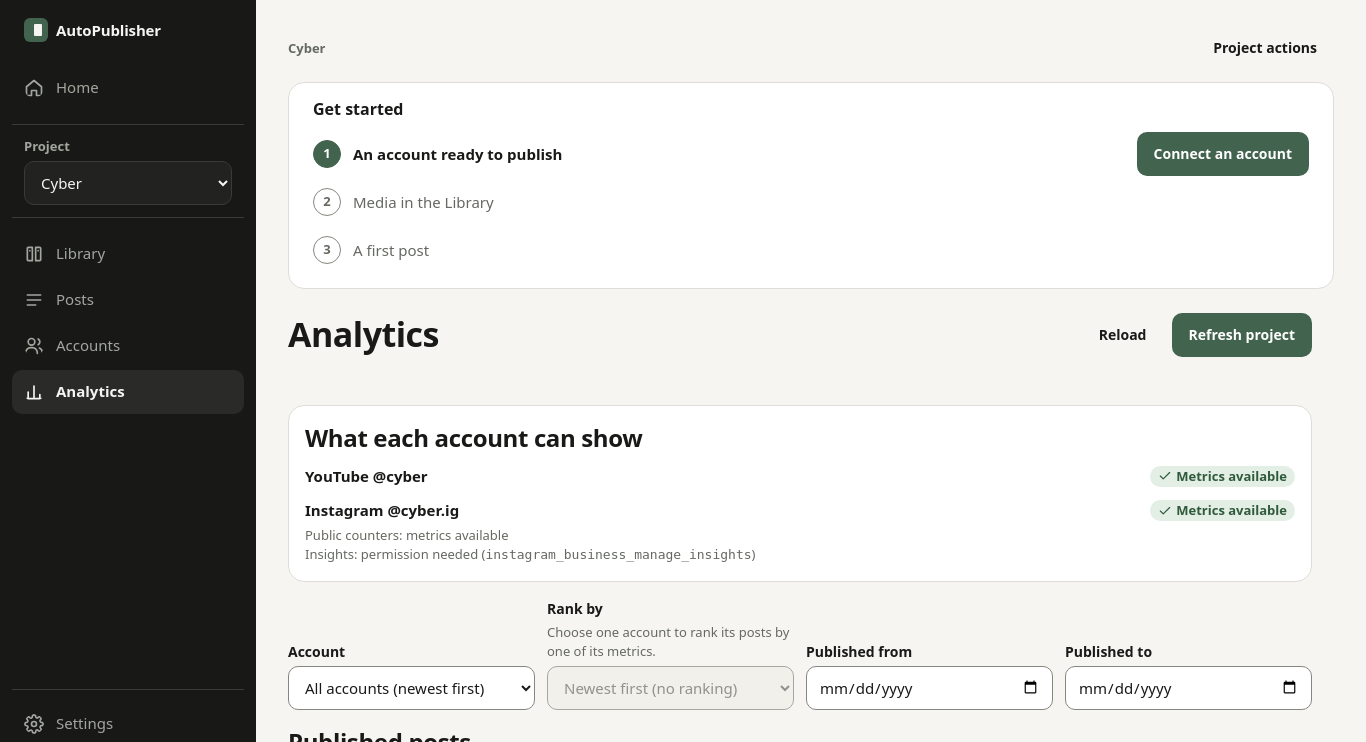
Test: Analytics rankings and content types › shows medians by content type and insufficient samples
expect the heading "Analytics" is shown: met, box [288,315,439,354]
Select "YouTube @cyber" in the dropdown labelled "Account" at (412,688), box [288,666,535,710]
(page scrolled)
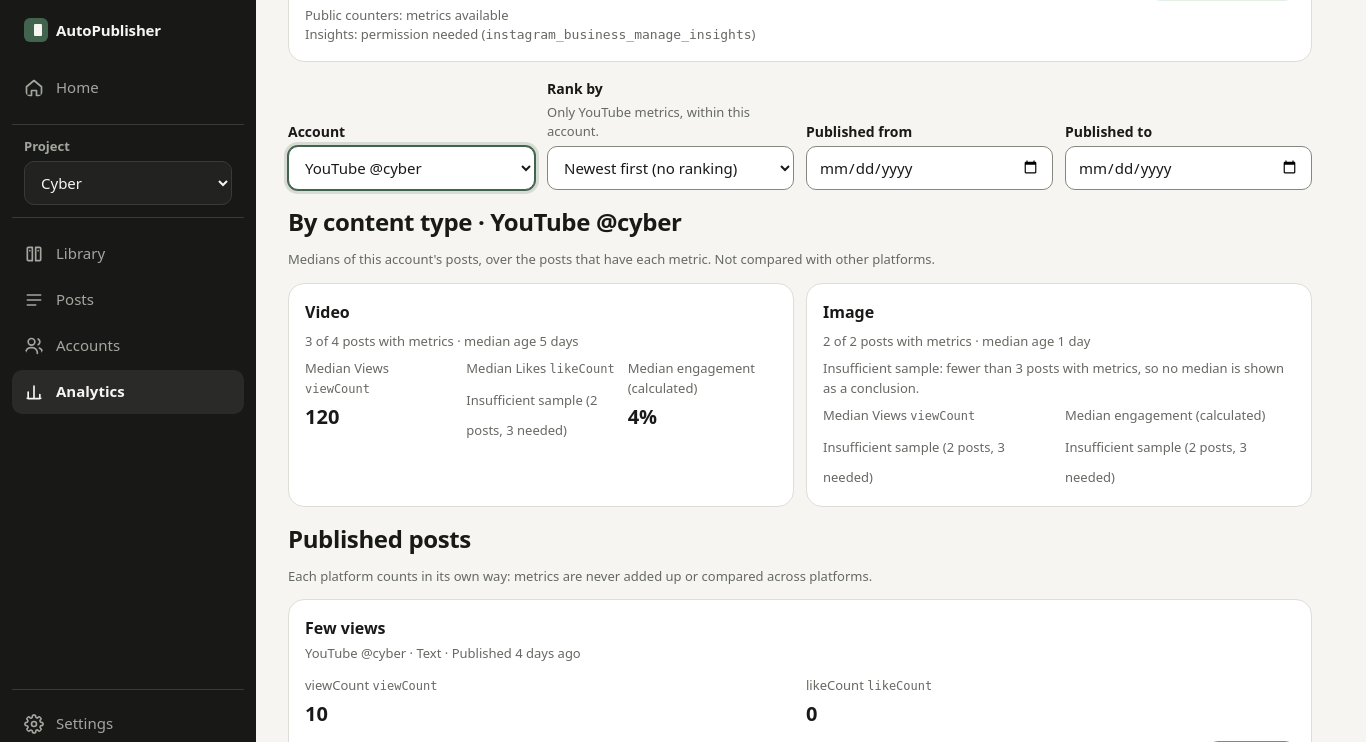
expect the text "3 of 4 posts with metrics · median age 5 days" is shown: met, box [305,332,579,350]
expect the text "120" is shown: met, box [305,403,339,430]
expect the text "Insufficient sample (2 posts, 3 needed)" below "Likes" is shown: met, box [466,391,597,439]
